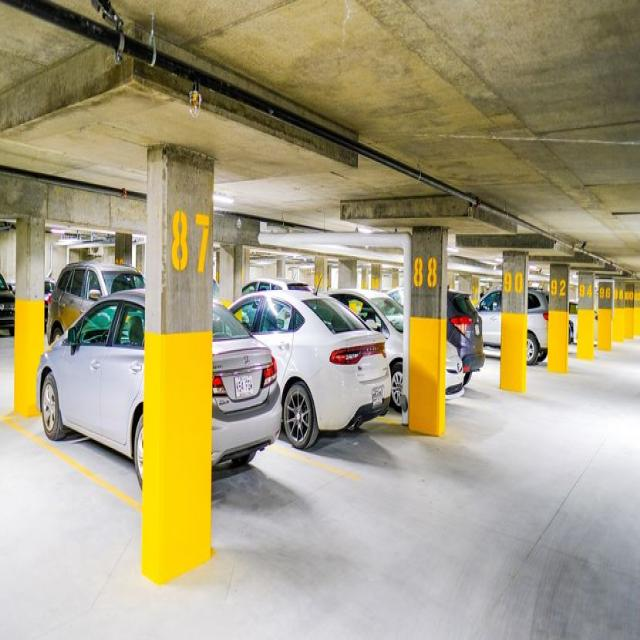libre: (581, 269, 640, 367)
ocupado: (15, 222, 581, 389), (15, 386, 335, 486), (238, 326, 508, 432)
